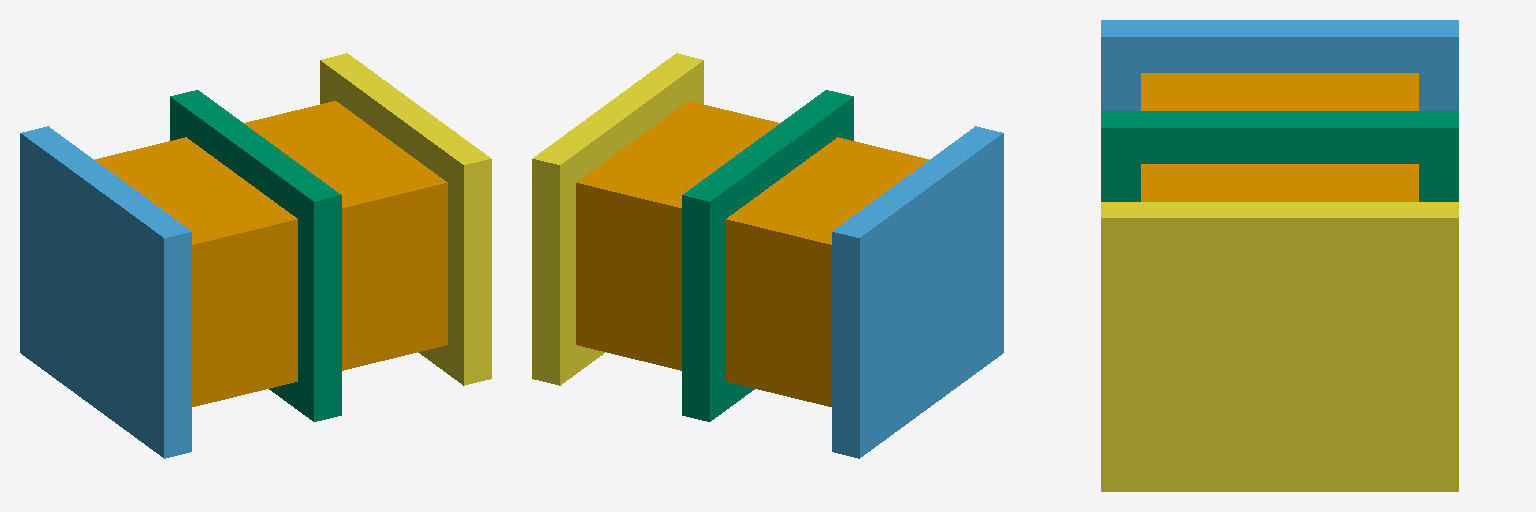
The robot description file, URDF, robot "debris027":
<?xml version="1.0" ?>
<robot name="debris027">

<link name="debris027">
<visual> <origin xyz="0 0 0" rpy="0 0 0" />
<geometry> <box size="0.58 0.35 0.28"/> </geometry>
</visual>
<collision> <origin xyz="0 0 0" rpy="0 0 0" />
<geometry> <box size="0.58 0.35 0.28"/> </geometry>
</collision>
<inertial> <origin xyz="0 0 0" rpy="0 0 0" />
<mass value="10.0" />
<inertia ixx="0.2720" ixy="0" ixz="0" iyy="0.2720" iyz="0" izz="0.2720" />
</inertial>
</link>
<gazebo reference="debris027"> <material>Gazebo/WoodFloor</material> </gazebo>

<link name="debris0270">
<visual> <origin xyz="-0.27 0 0" rpy="0 0 0" />
<geometry> <box size="0.05 0.45 0.38"/> </geometry>
</visual>
<collision> <origin xyz="-0.27 0 0" rpy="0 0 0" />
<geometry> <box size="0.05 0.45 0.38"/> </geometry>
</collision>
<inertial> <origin xyz="0 0 0" rpy="0 0 0" />
<mass value="0.1" />
<inertia ixx="0.0100" ixy="0" ixz="0" iyy="0.0100" iyz="0" izz="0.0100" />
</inertial>
</link>
<gazebo reference="debris0270"> <material>Gazebo/WoodFloor</material> </gazebo>

<joint name="debris0270joint" type="fixed">
<parent link="debris027"/>
<child link="debris0270"/>
<origin xyz="0 0 0" rpy="0 0 0" />
</joint>

<link name="debris0271">
<visual> <origin xyz="0.00 0 0" rpy="0 0 0" />
<geometry> <box size="0.05 0.45 0.38"/> </geometry>
</visual>
<collision> <origin xyz="0.00 0 0" rpy="0 0 0" />
<geometry> <box size="0.05 0.45 0.38"/> </geometry>
</collision>
<inertial> <origin xyz="0 0 0" rpy="0 0 0" />
<mass value="0.1" />
<inertia ixx="0.0100" ixy="0" ixz="0" iyy="0.0100" iyz="0" izz="0.0100" />
</inertial>
</link>
<gazebo reference="debris0271"> <material>Gazebo/WoodFloor</material> </gazebo>

<joint name="debris0271joint" type="fixed">
<parent link="debris027"/>
<child link="debris0271"/>
<origin xyz="0 0 0" rpy="0 0 0" />
</joint>

<link name="debris0272">
<visual> <origin xyz="0.27 0 0" rpy="0 0 0" />
<geometry> <box size="0.05 0.45 0.38"/> </geometry>
</visual>
<collision> <origin xyz="0.27 0 0" rpy="0 0 0" />
<geometry> <box size="0.05 0.45 0.38"/> </geometry>
</collision>
<inertial> <origin xyz="0 0 0" rpy="0 0 0" />
<mass value="0.1" />
<inertia ixx="0.0100" ixy="0" ixz="0" iyy="0.0100" iyz="0" izz="0.0100" />
</inertial>
</link>
<gazebo reference="debris0272"> <material>Gazebo/WoodFloor</material> </gazebo>

<joint name="debris0272joint" type="fixed">
<parent link="debris027"/>
<child link="debris0272"/>
<origin xyz="0 0 0" rpy="0 0 0" />
</joint>

</robot>

--- Render facts (derived) ---
3 views of the same robot in one strip: view 1: azimuth 30°, elevation 25°; view 2: azimuth 150°, elevation 25°; view 3: azimuth 270°, elevation 25° (orthographic).
Model debris027 with 4 links and 3 joints (3 fixed), rooted at debris027, posed every joint at zero.
Links seen in each view (by area): view 1: debris027, debris0270, debris0271, debris0272; view 2: debris027, debris0270, debris0271, debris0272; view 3: debris0272, debris0270, debris0271, debris027.
Boxes of the visible links, box(x1,y1,x2,y2) form: debris027: box(95, 101, 447, 406); debris0270: box(20, 126, 191, 458); debris0271: box(170, 90, 341, 421); debris0272: box(320, 53, 491, 385); debris027: box(576, 101, 928, 406); debris0270: box(832, 126, 1003, 458); debris0271: box(682, 90, 853, 421); debris0272: box(532, 53, 703, 385); debris0272: box(1101, 202, 1458, 491); debris0270: box(1101, 20, 1458, 110); debris0271: box(1101, 111, 1458, 201); debris027: box(1141, 73, 1418, 201).
Size in the robot's own frame: 0.59 by 0.45 by 0.38 metres.
Geometry: primitives only (box / cylinder / sphere), no mesh files.
